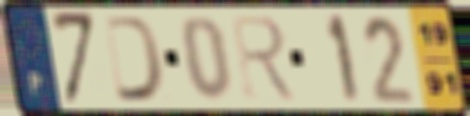0: (178, 13, 237, 104)
1: (322, 11, 364, 106)
2: (360, 12, 420, 105)
7: (50, 8, 101, 109)
D: (101, 14, 168, 105)
R: (227, 12, 301, 105)
